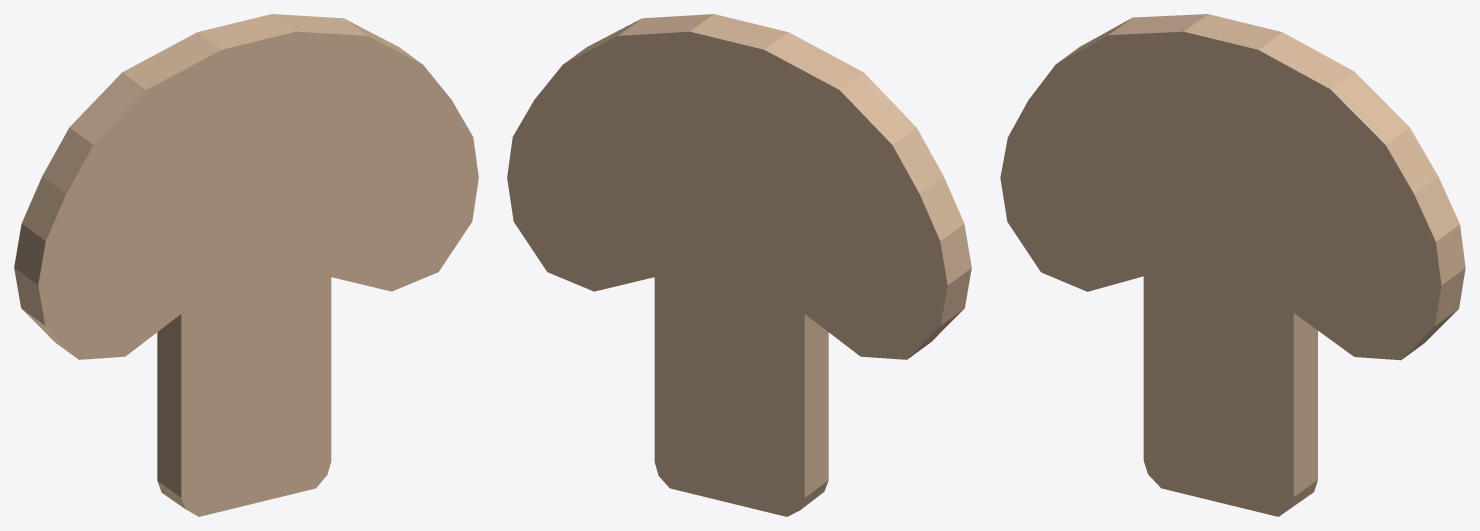
The model's file is mushroomslice.dae.
3 views of the same model, side by side, from view 1: azimuth 30°, elevation 25°; view 2: azimuth 150°, elevation 25°; view 3: azimuth 330°, elevation 25° (orthographic).
Visible parts, largest first — view 1: Cube; view 2: Cube; view 3: Cube.
Part boxes in pixels (box(x1,y1,x2,y2)): Cube: box(14, 14, 478, 516); Cube: box(507, 14, 971, 516); Cube: box(1000, 14, 1465, 516).
Size of the model in its own units: 0.8023 by 0.0761 by 0.8032.
